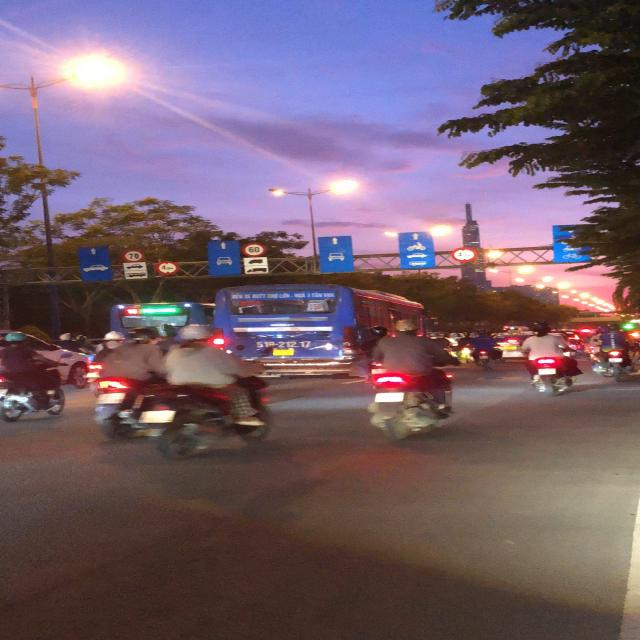Bien bao han che chieu cao: (154, 260, 178, 276)
Bien bao toc do toi da cho phep: (240, 242, 270, 258), (120, 249, 145, 263)
